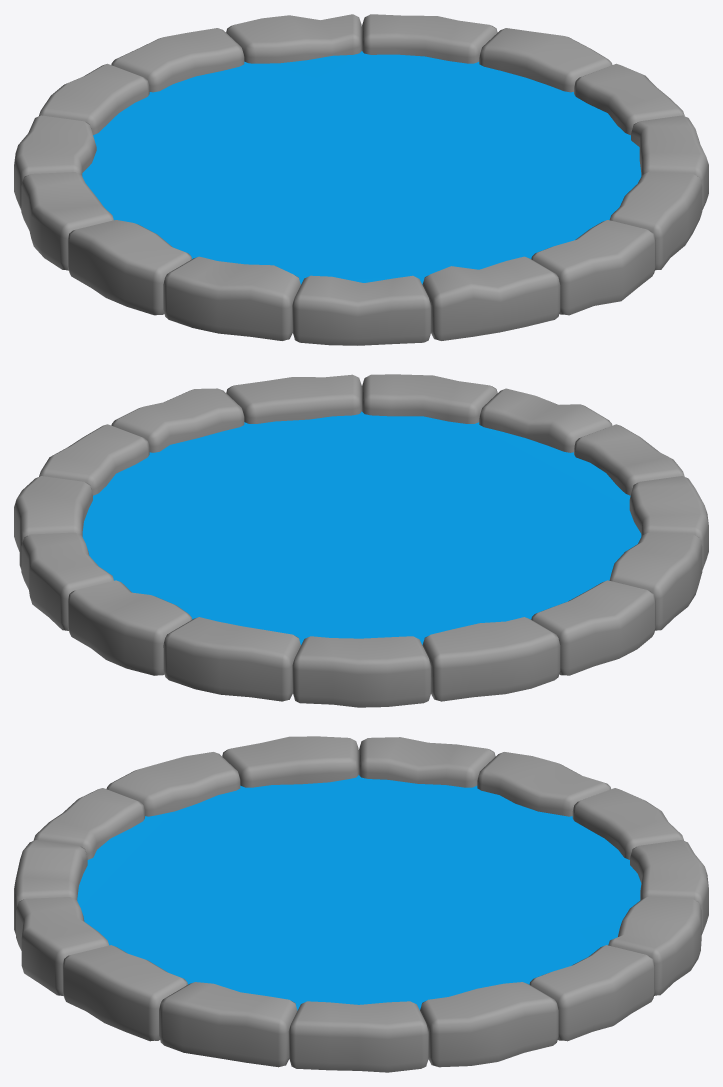
File: Farm_6_Lake_1.glb
The picture shows the model from 3 angles, top to bottom: view 1: azimuth 30°, elevation 25°; view 2: azimuth 150°, elevation 25°; view 3: azimuth 270°, elevation 25°; orthographic projection.
Visible parts, largest first — view 1: Farm_6_Lake_1; view 2: Farm_6_Lake_1; view 3: Farm_6_Lake_1.
Boxes of the visible parts, x1,y1,x2,y2 form: Farm_6_Lake_1: (14,14,708,345); Farm_6_Lake_1: (14,374,708,707); Farm_6_Lake_1: (14,736,708,1072).
Size of the model in its own units: 2.92 by 0.2431 by 2.91.
Materials: 1 (1 with a texture image).
